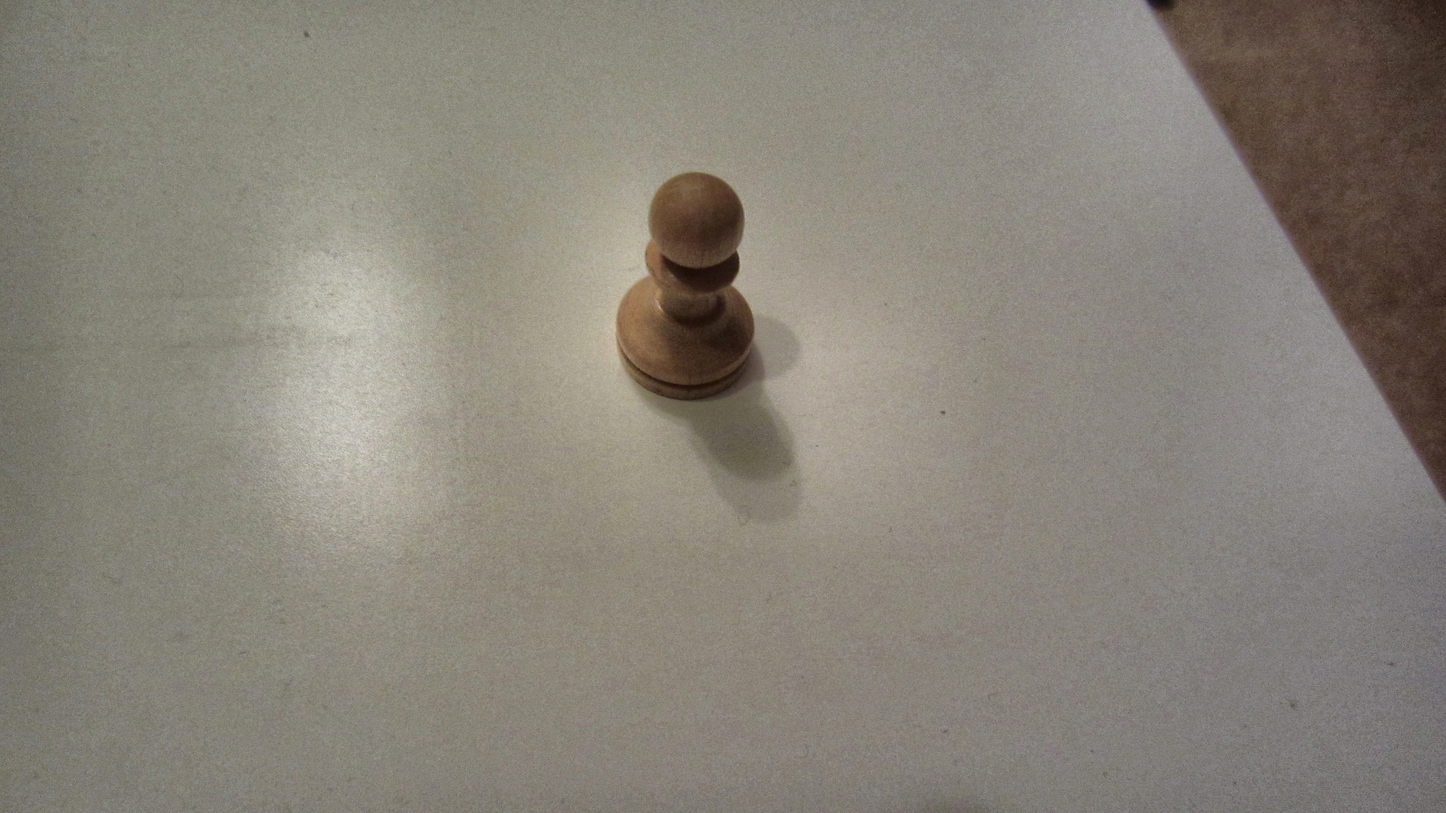white-pawn: (606, 167, 760, 405)
